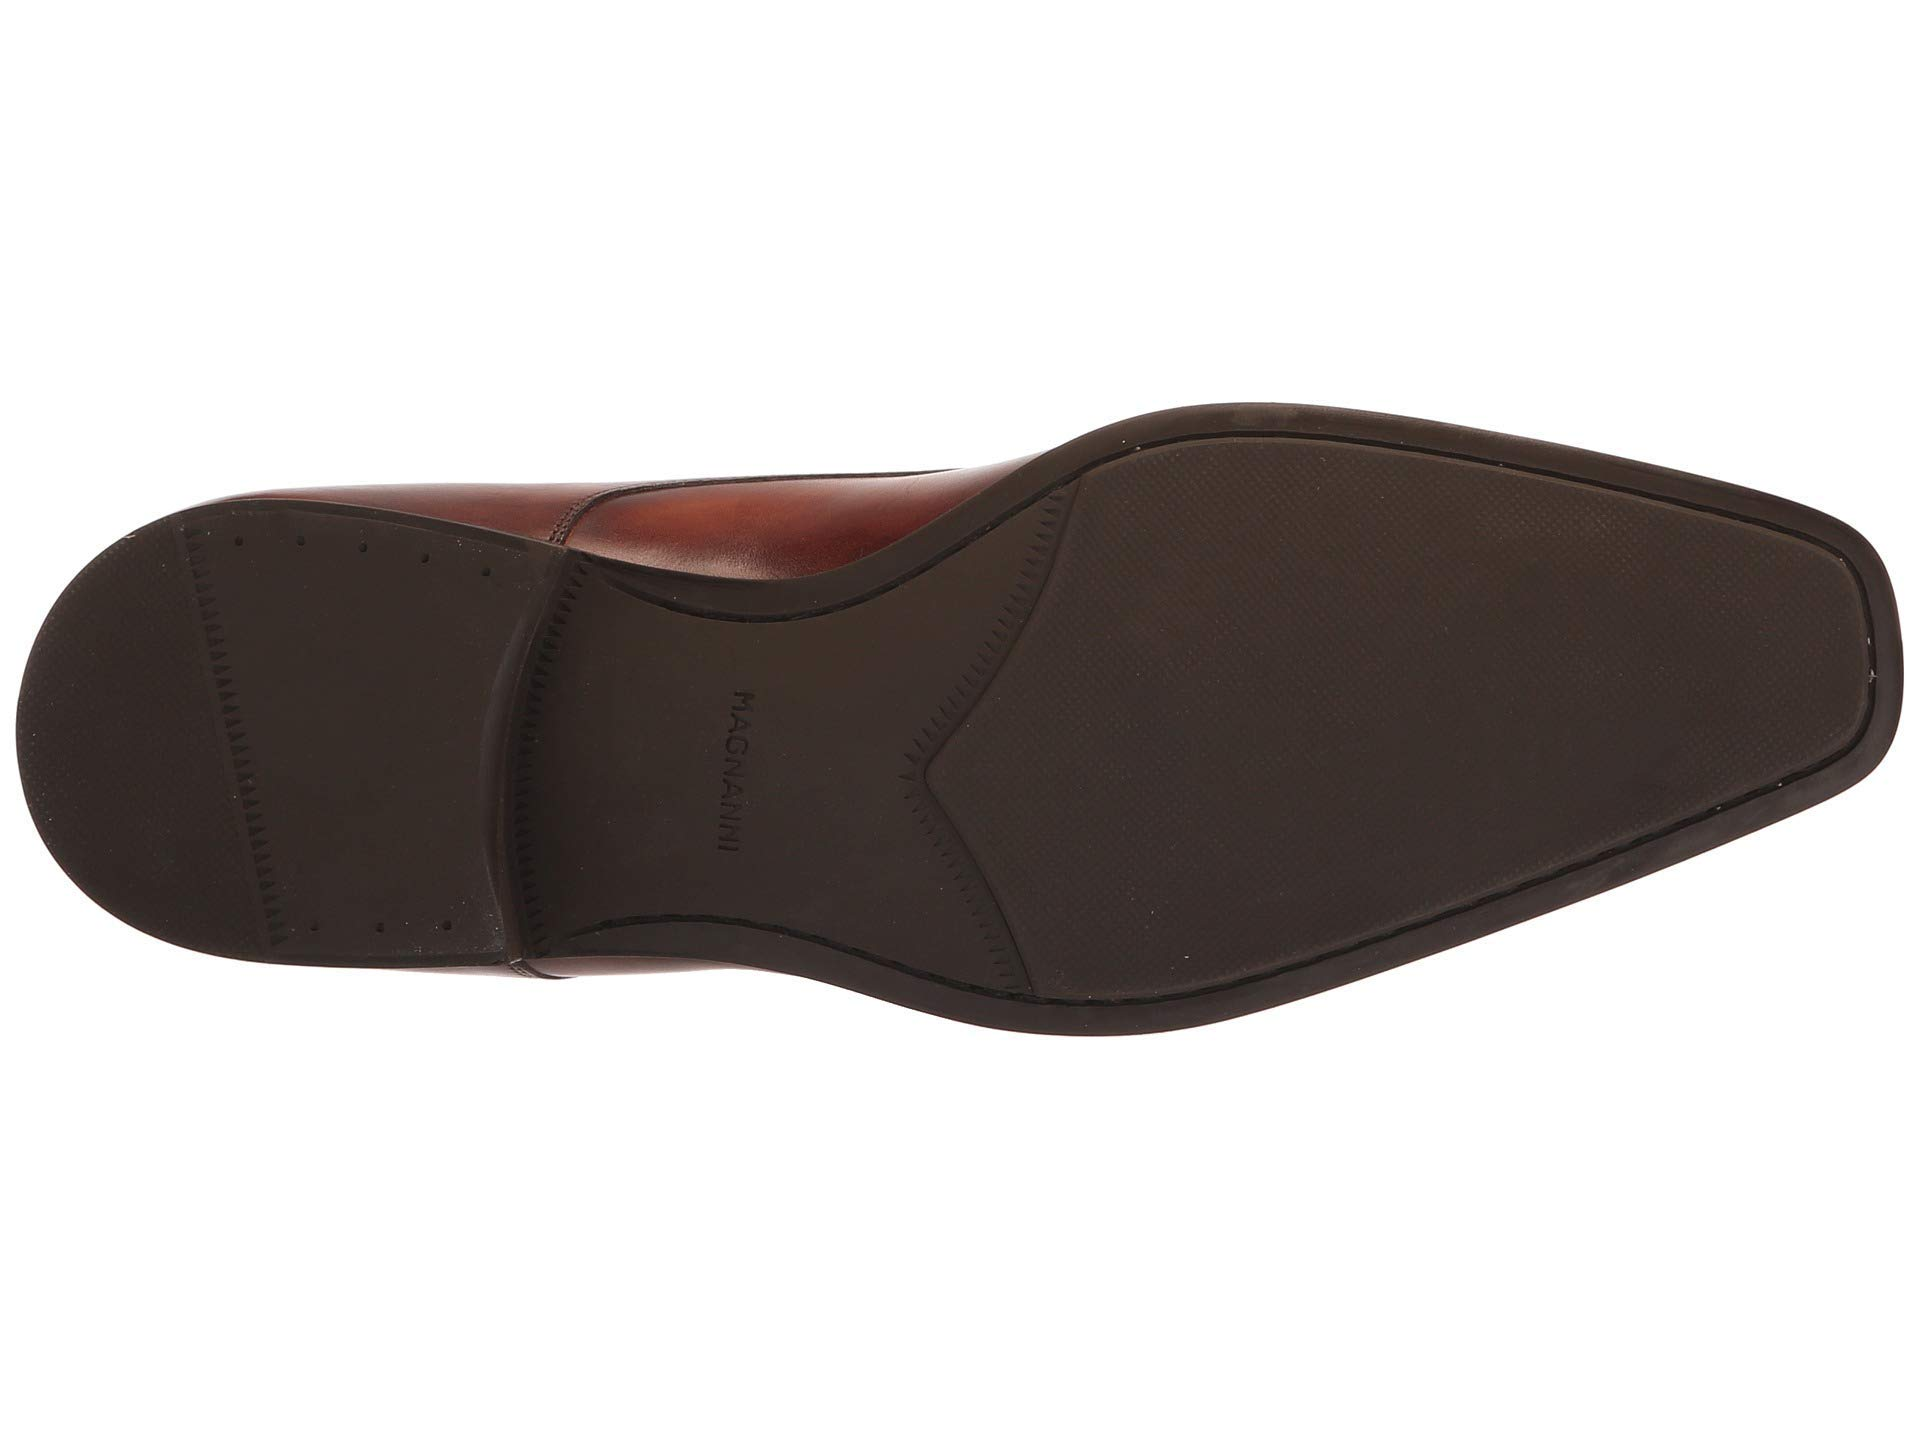circle: (156, 511, 481, 967), (680, 647, 770, 877)
line: (156, 511, 481, 967)
text: (680, 647, 770, 877)
